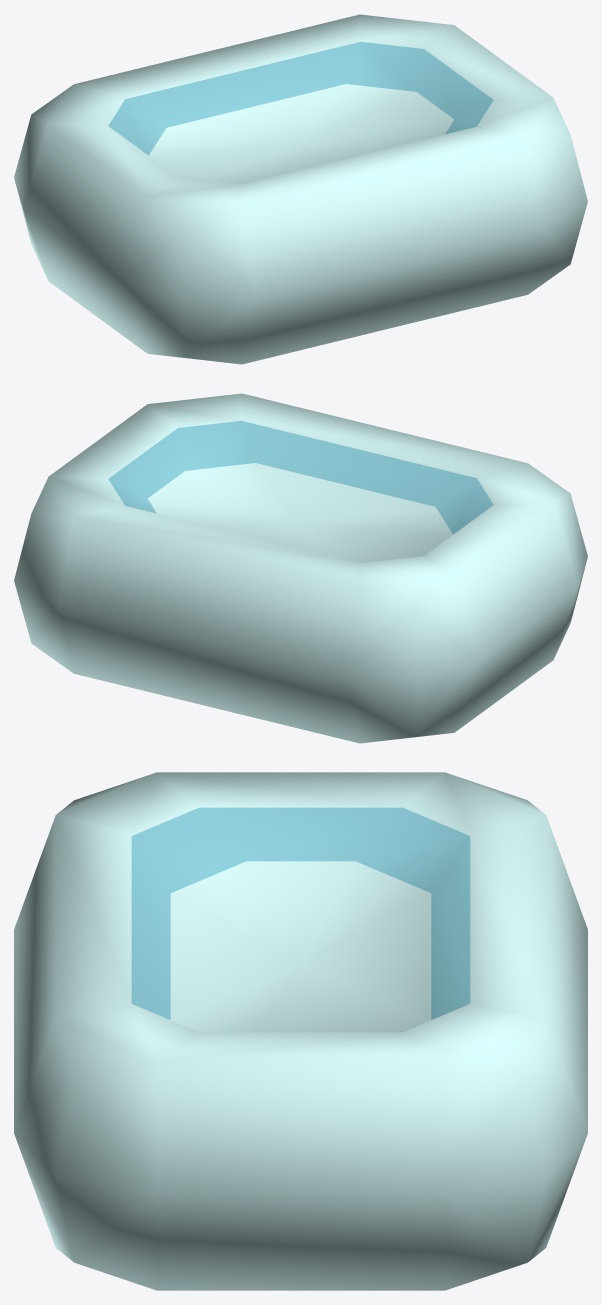
Rendered from soap.fbx.
3 renders of one model, top to bottom at view 1: azimuth 30°, elevation 25°; view 2: azimuth 150°, elevation 25°; view 3: azimuth 270°, elevation 25°, orthographic. The views are drawn at different scales.
Parts seen in each view (by area): view 1: Soap-01; view 2: Soap-01; view 3: Soap-01.
Part boxes in pixels (x1,y1,x2,y2): Soap-01: (14,14,587,364); Soap-01: (14,393,587,743); Soap-01: (14,772,587,1290).
Bounding box in the file's own units: 25.83 × 8.52 × 19.33.
